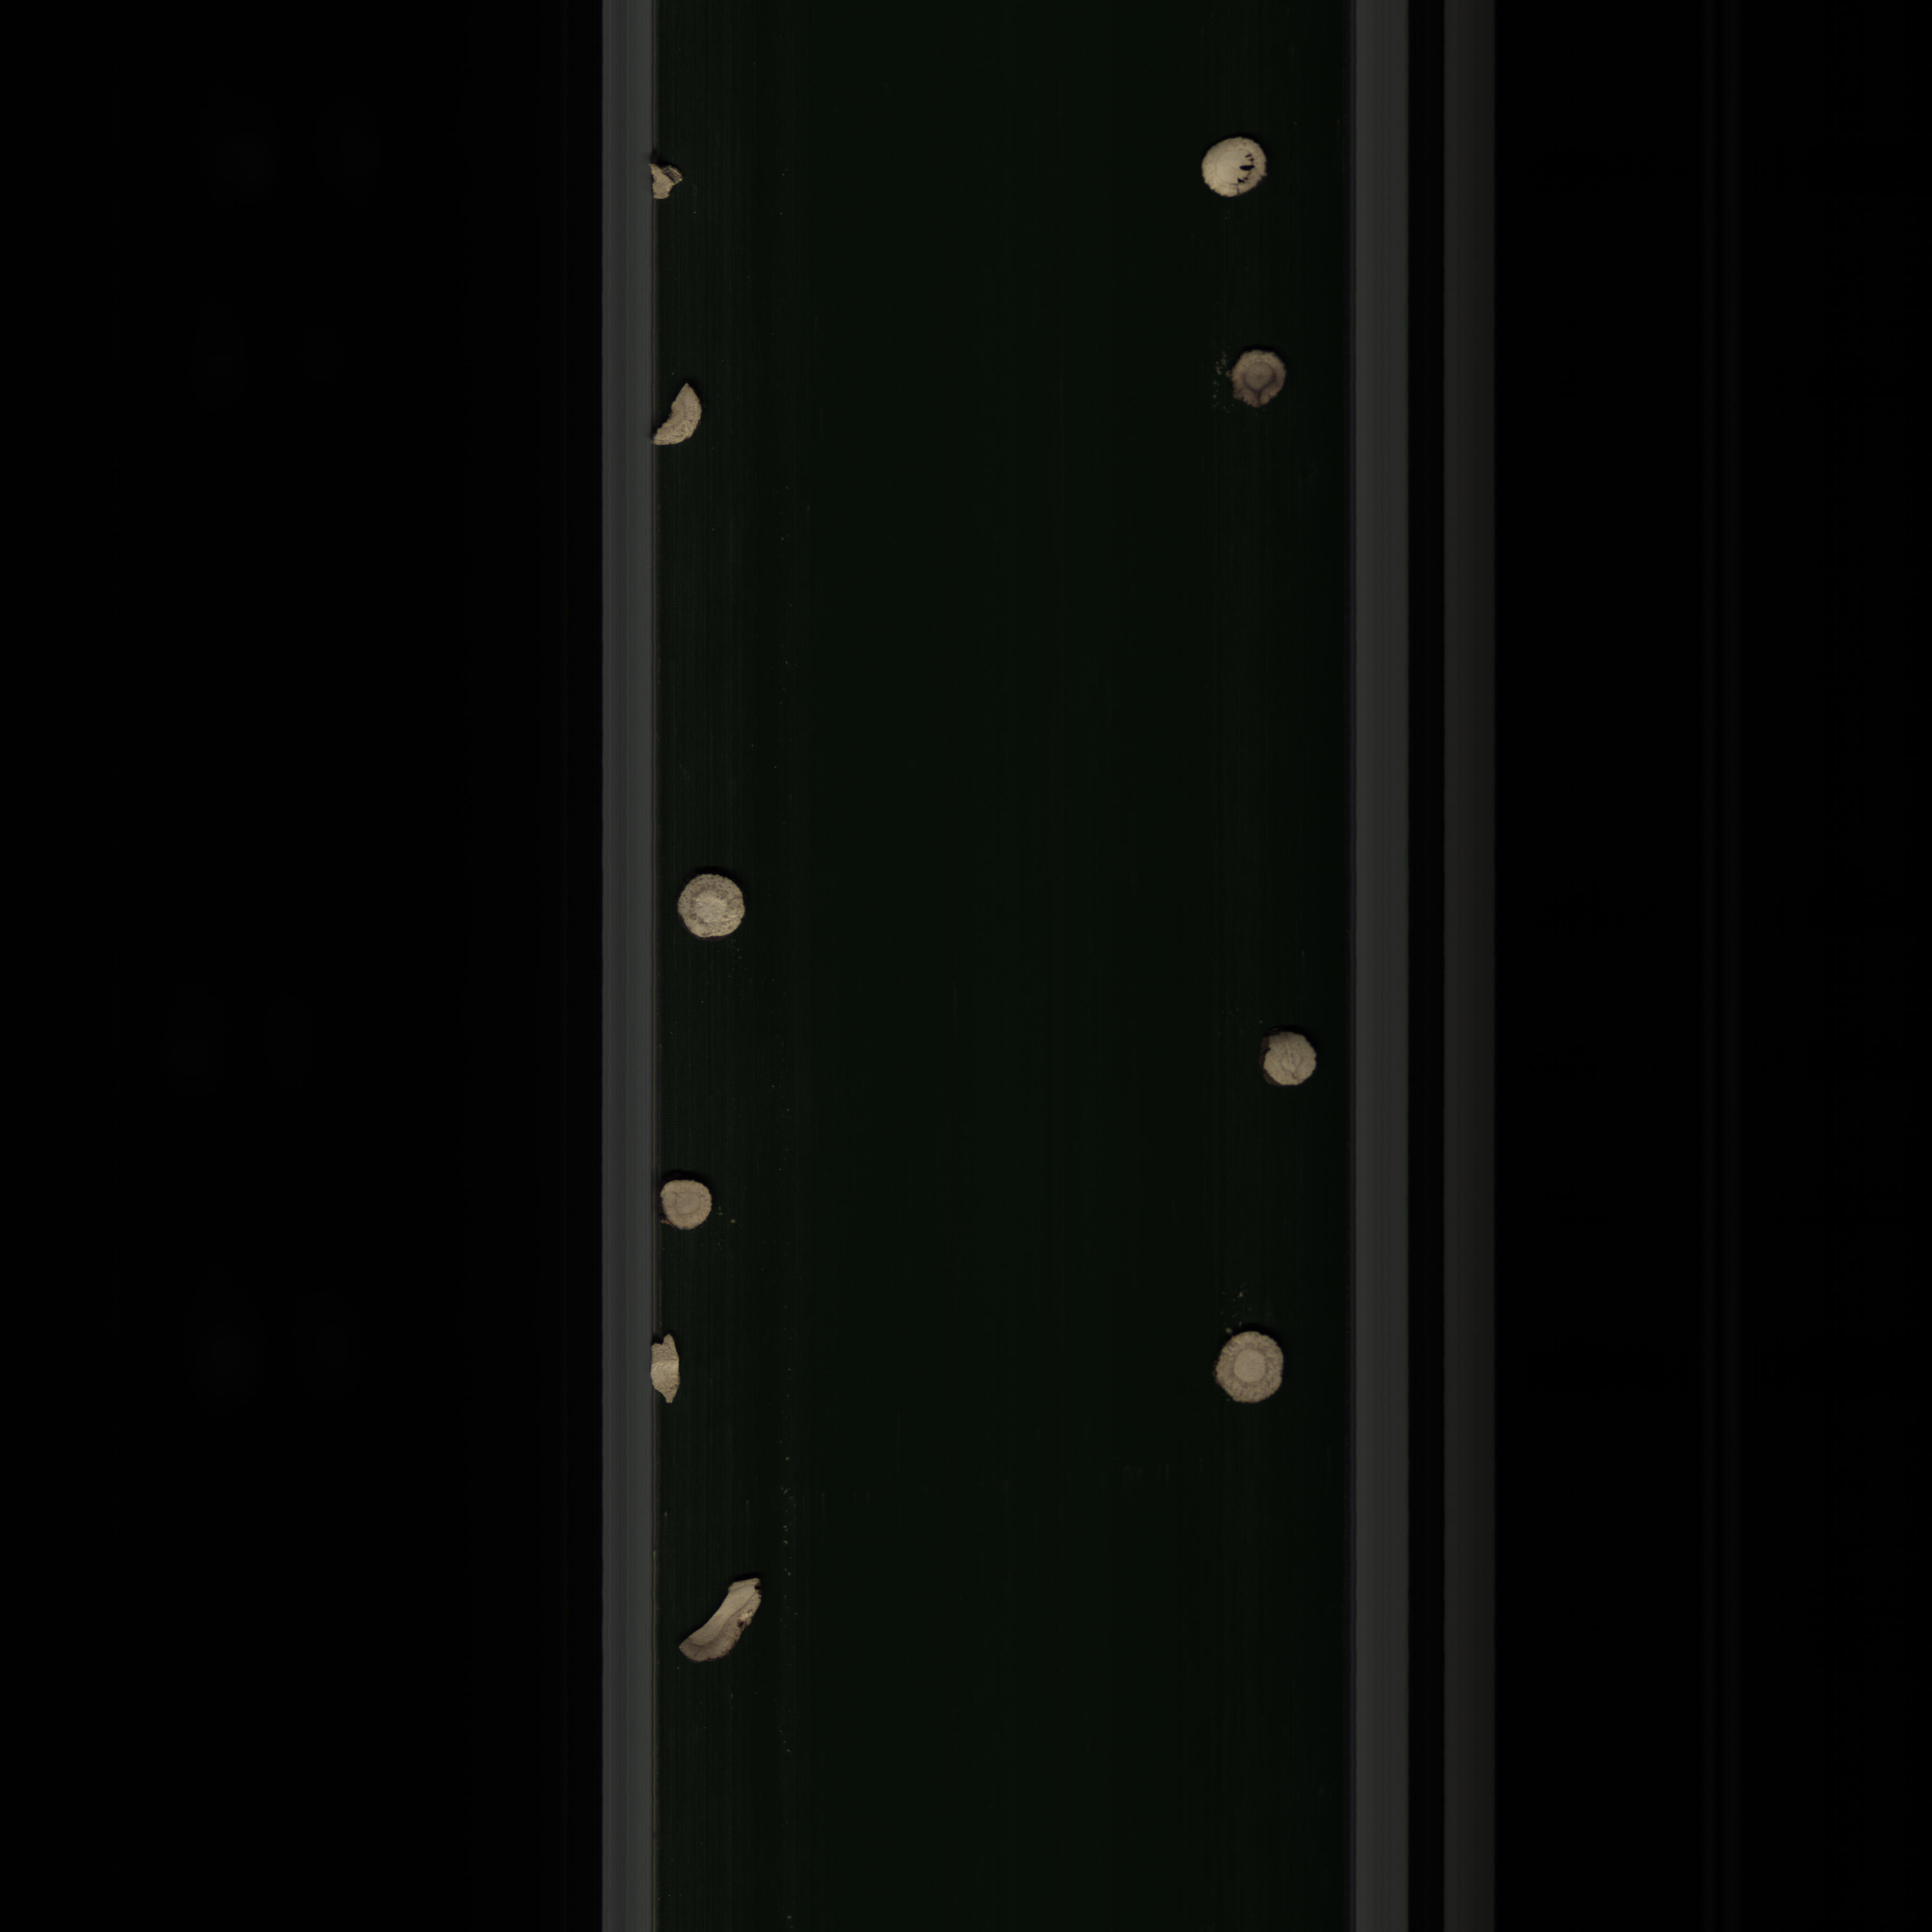bark: (642, 159, 683, 207)
debris: (671, 1573, 773, 1672), (651, 379, 709, 453), (644, 1332, 688, 1412)
hole: (1196, 133, 1272, 209)
moldy: (1230, 345, 1295, 414)
